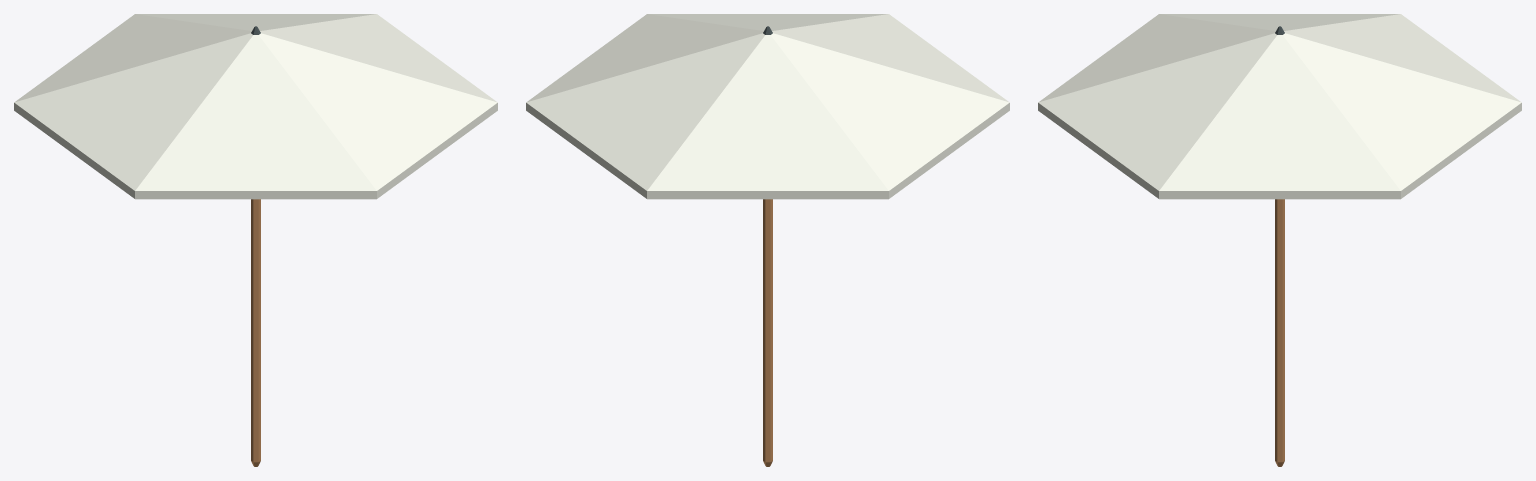
Rendered from Umbrella_A.fbx.
3 renders of one model, left to right at view 1: azimuth 30°, elevation 25°; view 2: azimuth 150°, elevation 25°; view 3: azimuth 270°, elevation 25°, orthographic.
Parts seen in each view (by area): view 1: Umbrella_A; view 2: Umbrella_A; view 3: Umbrella_A.
Part boxes in pixels (x1,y1,x2,y2): Umbrella_A: [14, 14, 497, 466]; Umbrella_A: [526, 14, 1009, 466]; Umbrella_A: [1038, 14, 1521, 466].
Bounding box in the file's own units: 163 × 188 × 188.
